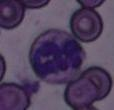N: (28, 28, 86, 86)
